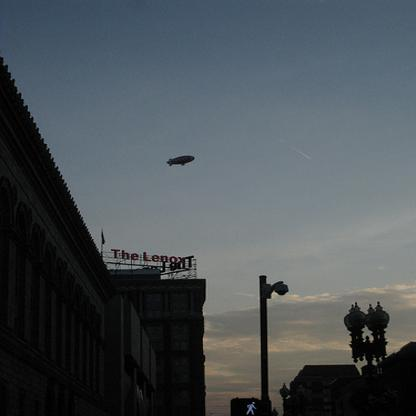Airship: (166, 154, 197, 170)
